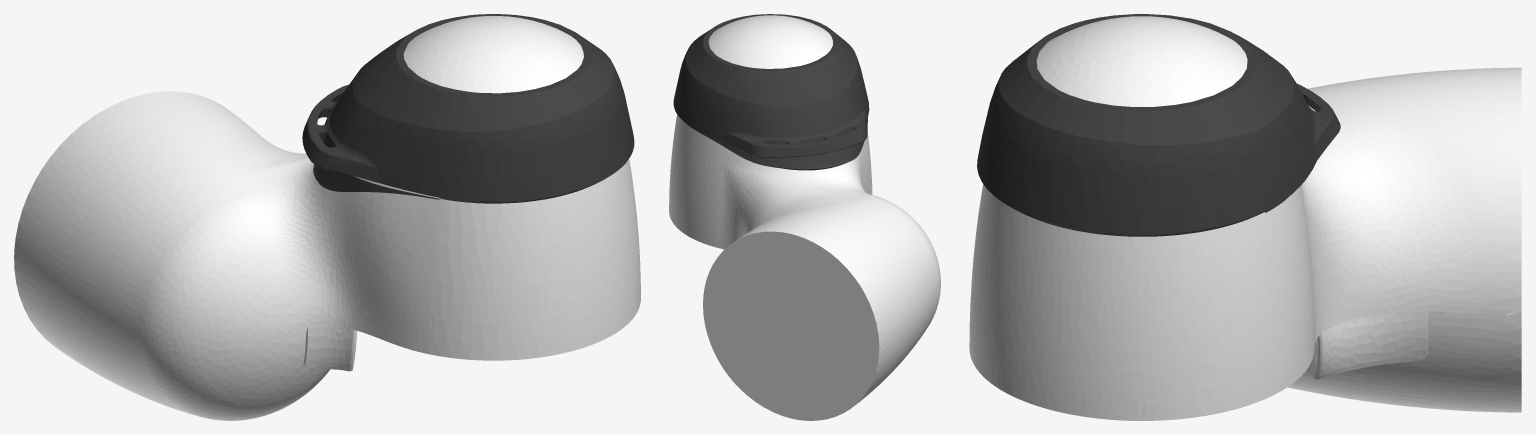
3 views of the same model, side by side, from view 1: azimuth 30°, elevation 25°; view 2: azimuth 150°, elevation 25°; view 3: azimuth 270°, elevation 25° (orthographic). The views are drawn at different scales.
Parts seen in each view (by area): view 1: node3, node0_001, node2; view 2: node3, node0_001; view 3: node3, node0_001, node1.
Boxes of the visible parts, box(x1,y1,x2,y2) form: node3: box(14, 16, 640, 420); node0_001: box(302, 14, 634, 203); node2: box(303, 327, 356, 371); node3: box(669, 15, 940, 420); node0_001: box(673, 14, 869, 170); node3: box(969, 16, 1521, 420); node0_001: box(977, 14, 1340, 236); node1: box(1306, 311, 1427, 379).
Size of the model in its own units: 0.1925 by 0.1661 by 0.176.
Materials: 1 (1 with a texture image).
